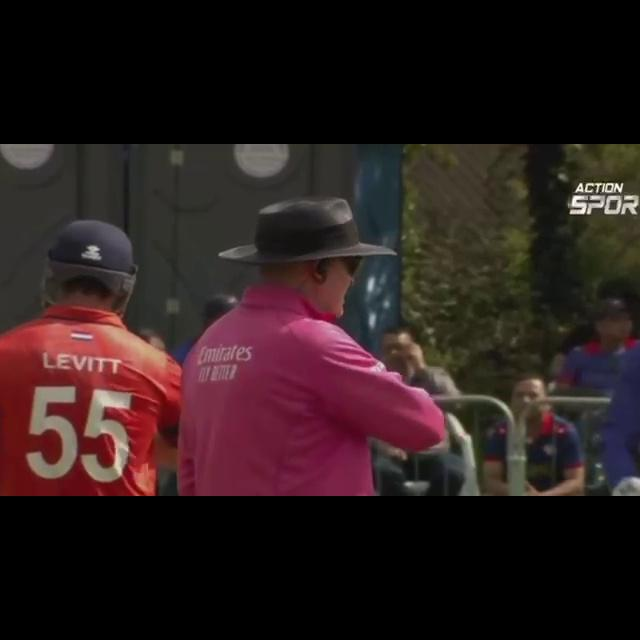umpire: (166, 189, 492, 496)
